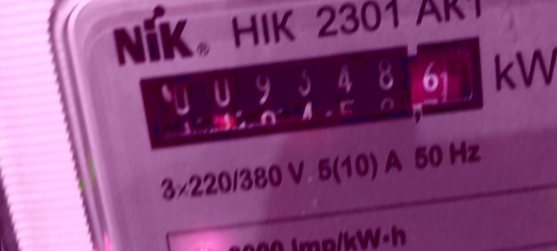0: (207, 71, 233, 109), (167, 78, 191, 115)
3: (289, 61, 315, 96)
4: (328, 56, 354, 96)
6: (416, 55, 442, 92)
8: (371, 53, 396, 89)
9: (250, 67, 272, 103)
screen: (113, 17, 507, 167)
